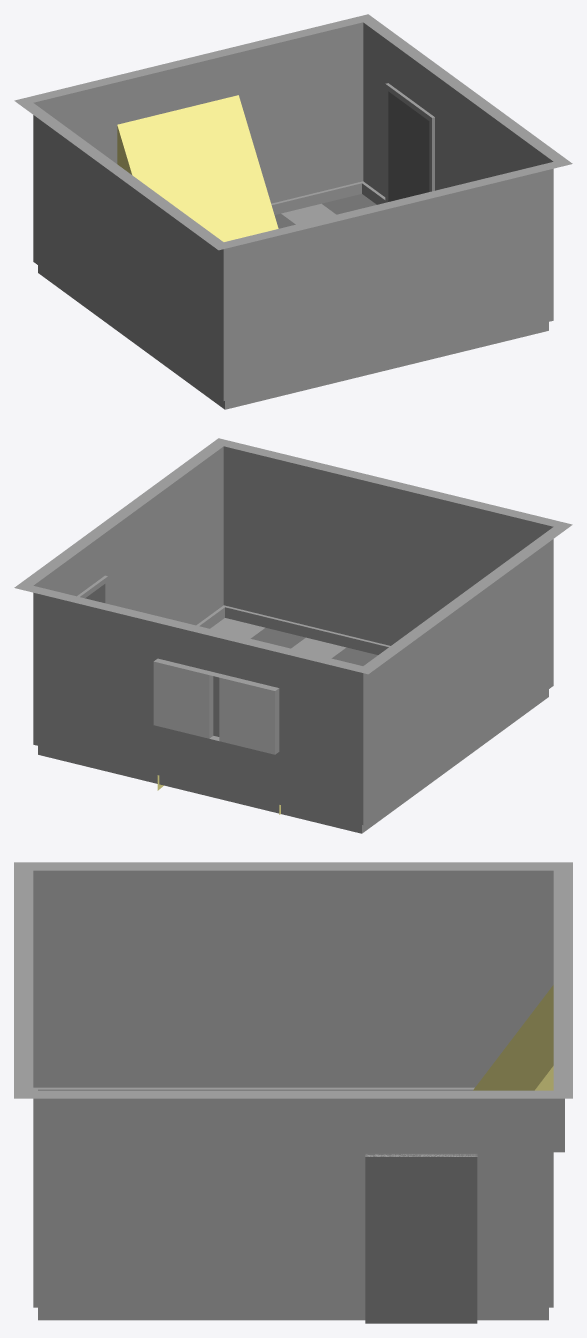
The model's file is room_0001.fbx.
3 views of the same model, one above another, from view 1: azimuth 30°, elevation 25°; view 2: azimuth 150°, elevation 25°; view 3: azimuth 270°, elevation 25° (orthographic). The views are drawn at different scales.
Visible parts, largest first — view 1: roomWall_geo, windowLight_geo, roomDoor_geo, roomFloor_geo; view 2: roomWall_geo, roomFloor_geo; view 3: roomWall_geo, roomDoor_geo, windowLight_geo.
Boxes of the visible parts, left/top/right/bottom form: roomWall_geo: left=14, top=14, right=572, bottom=409; windowLight_geo: left=117, top=95, right=278, bottom=241; roomDoor_geo: left=388, top=91, right=429, bottom=201; roomFloor_geo: left=274, top=194, right=376, bottom=228; roomWall_geo: left=14, top=438, right=572, bottom=833; roomFloor_geo: left=210, top=618, right=377, bottom=665; roomWall_geo: left=14, top=862, right=572, bottom=1320; roomDoor_geo: left=365, top=1153, right=477, bottom=1323; windowLight_geo: left=473, top=985, right=553, bottom=1090.
Size of the model in its own units: 8.75 by 4.12 by 8.75.
